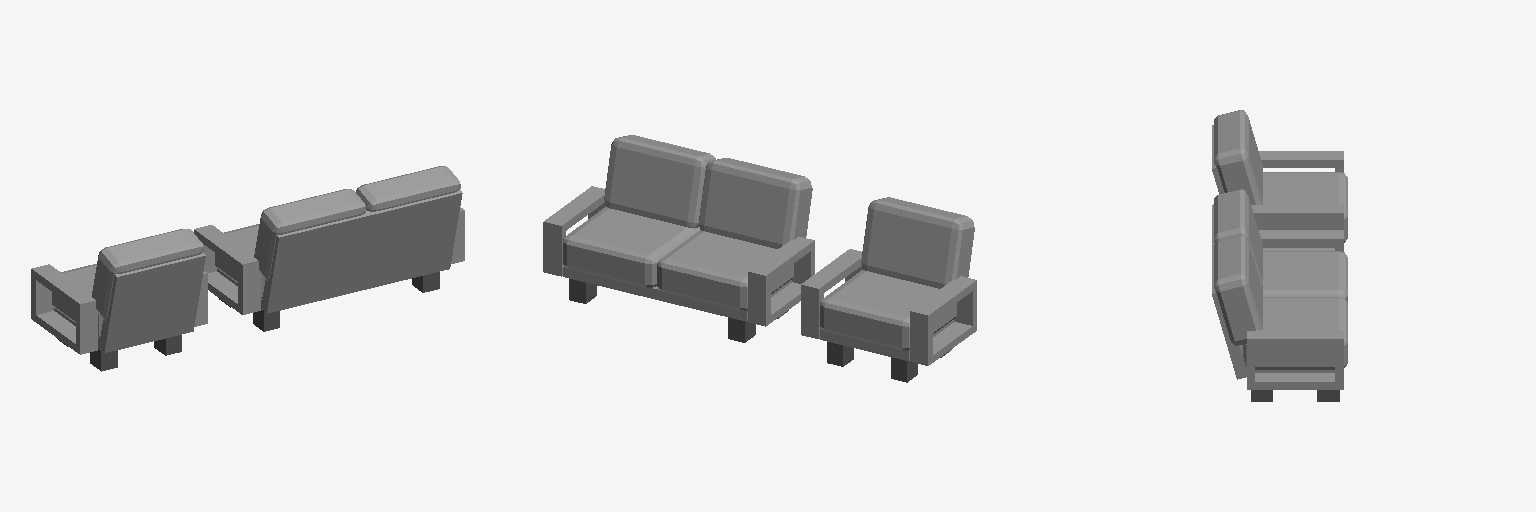
Rendered from Couches.obj.
The picture shows the model from 3 angles: view 1: azimuth 30°, elevation 25°; view 2: azimuth 150°, elevation 25°; view 3: azimuth 270°, elevation 25°; orthographic projection.
Parts seen in each view (by area): view 1: Cube.051_Cube.052, Cube.060_Cube.061, Cube.062_Cube.063, Cube.064_Cube.065, Cube.047_Cube.048, Cube.049_Cube.050, Cube.048_Cube.049, Cube.065_Cube.066, Cube.046_Cube.047; view 2: Cube.047_Cube.048, Cube.064_Cube.065, Cube.048_Cube.049, Cube.041_Cube.042, Cube.046_Cube.047, Cube.065_Cube.066, Cube.062_Cube.063, Cube.049_Cube.050, Cube.050_Cube.051, Cube.061_Cube.062, Cube.045_Cube.046, Cube.066_Cube.067 (+4 smaller); view 3: Cube.041_Cube.042, Cube.048_Cube.049, Cube.046_Cube.047, Cube.050_Cube.051, Cube.065_Cube.066, Cube.064_Cube.065, Cube.047_Cube.048, Cube.061_Cube.062, Cube.049_Cube.050, Cube.062_Cube.063, Cube.051_Cube.052.
Part boxes in pixels (x1,y1,x2,y2): Cube.051_Cube.052: (262, 190, 462, 313); Cube.060_Cube.061: (100, 252, 205, 352); Cube.062_Cube.063: (31, 264, 97, 354); Cube.064_Cube.065: (92, 229, 203, 320); Cube.047_Cube.048: (254, 189, 365, 280); Cube.049_Cube.050: (194, 225, 260, 314); Cube.048_Cube.049: (356, 166, 460, 211); Cube.065_Cube.066: (52, 264, 102, 338); Cube.046_Cube.047: (215, 224, 264, 298); Cube.047_Cube.048: (699, 158, 811, 248); Cube.064_Cube.065: (861, 197, 973, 288); Cube.048_Cube.049: (604, 135, 715, 228); Cube.041_Cube.042: (563, 207, 699, 287); Cube.046_Cube.047: (657, 230, 793, 310); Cube.065_Cube.066: (820, 270, 956, 350); Cube.062_Cube.063: (910, 276, 976, 365); Cube.049_Cube.050: (748, 236, 814, 326); Cube.050_Cube.051: (543, 186, 604, 276); Cube.061_Cube.062: (801, 249, 862, 338); Cube.045_Cube.046: (563, 266, 791, 321); Cube.066_Cube.067: (820, 319, 954, 360); Cube.041_Cube.042: (1243, 297, 1347, 369); Cube.048_Cube.049: (1214, 236, 1262, 345); Cube.046_Cube.047: (1263, 251, 1347, 302); Cube.050_Cube.051: (1247, 330, 1343, 389); Cube.065_Cube.066: (1256, 172, 1347, 242); Cube.064_Cube.065: (1214, 110, 1262, 204); Cube.047_Cube.048: (1214, 189, 1262, 289); Cube.061_Cube.062: (1251, 205, 1343, 250); Cube.049_Cube.050: (1259, 230, 1343, 251); Cube.062_Cube.063: (1259, 151, 1343, 172); Cube.051_Cube.052: (1212, 204, 1246, 379).
Size of the model in its own units: 7.23 by 2.28 by 2.22.